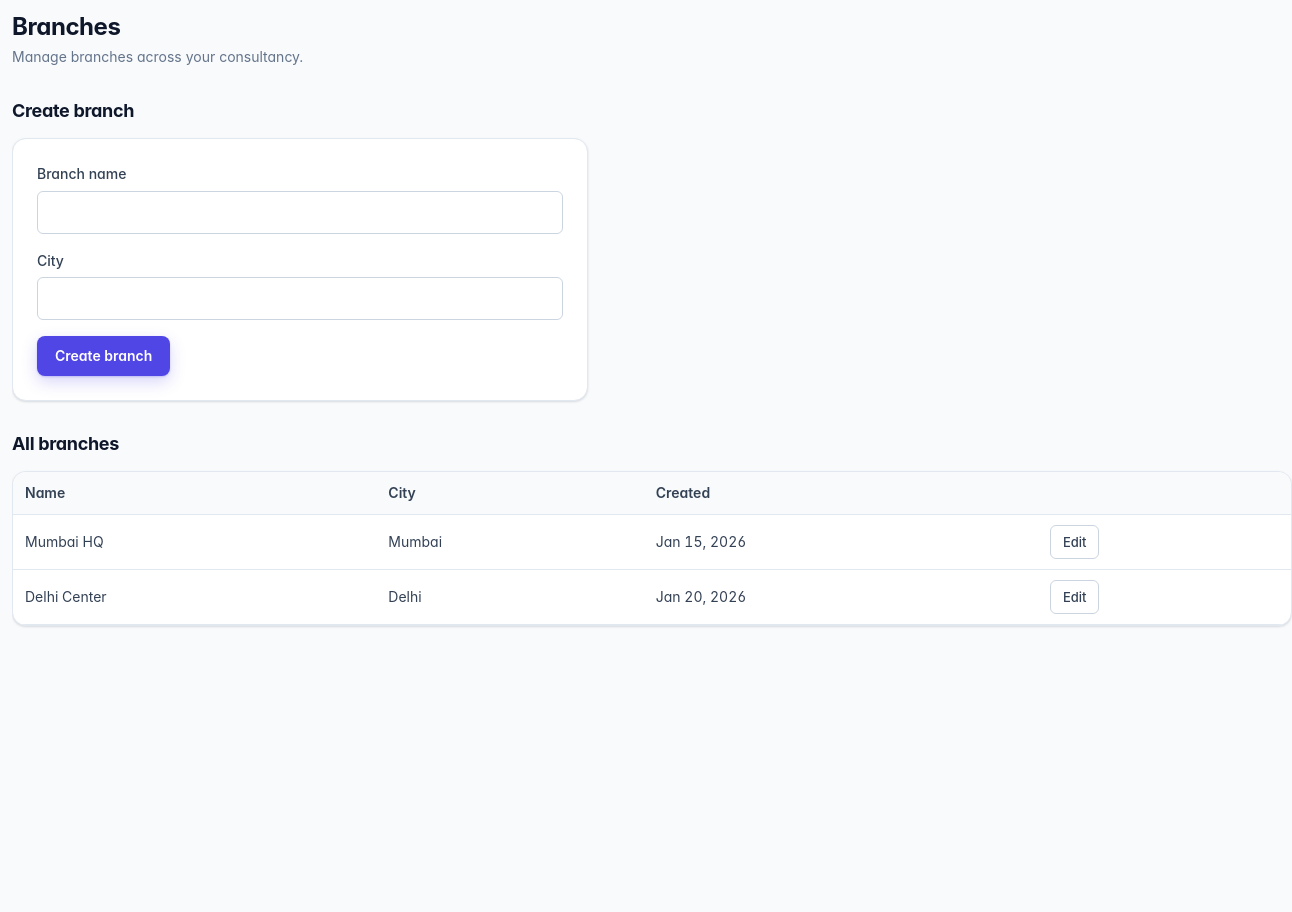
BranchesPage › creates a branch and shows success message
The width and height of the screenshot is (1292, 912).
Type "Bangalore Office" into the field with test id "branch-name" at (300, 212), box [37, 191, 563, 234]
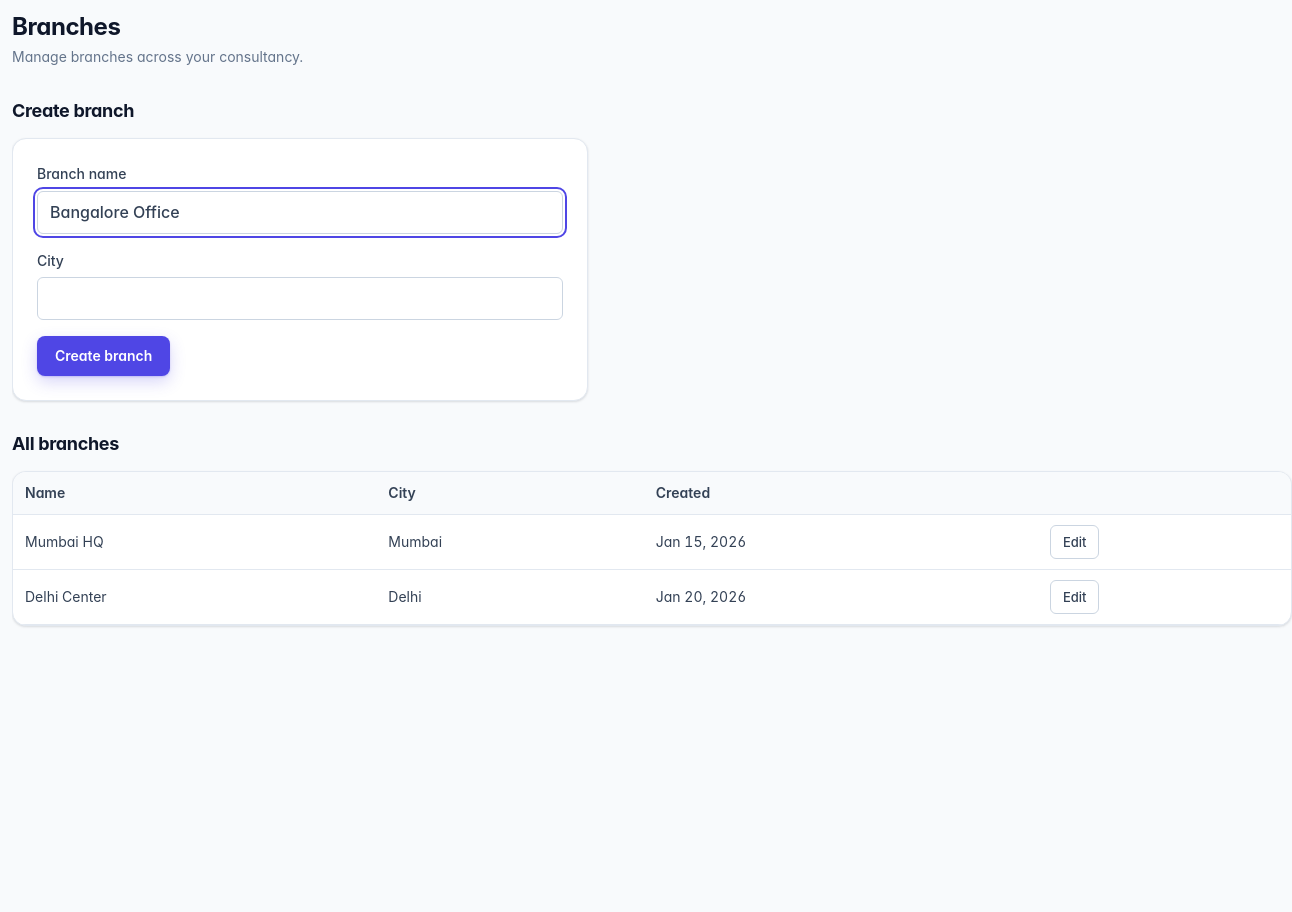
Type "Bangalore" into the field with test id "branch-city" at (300, 299), box [37, 277, 563, 320]
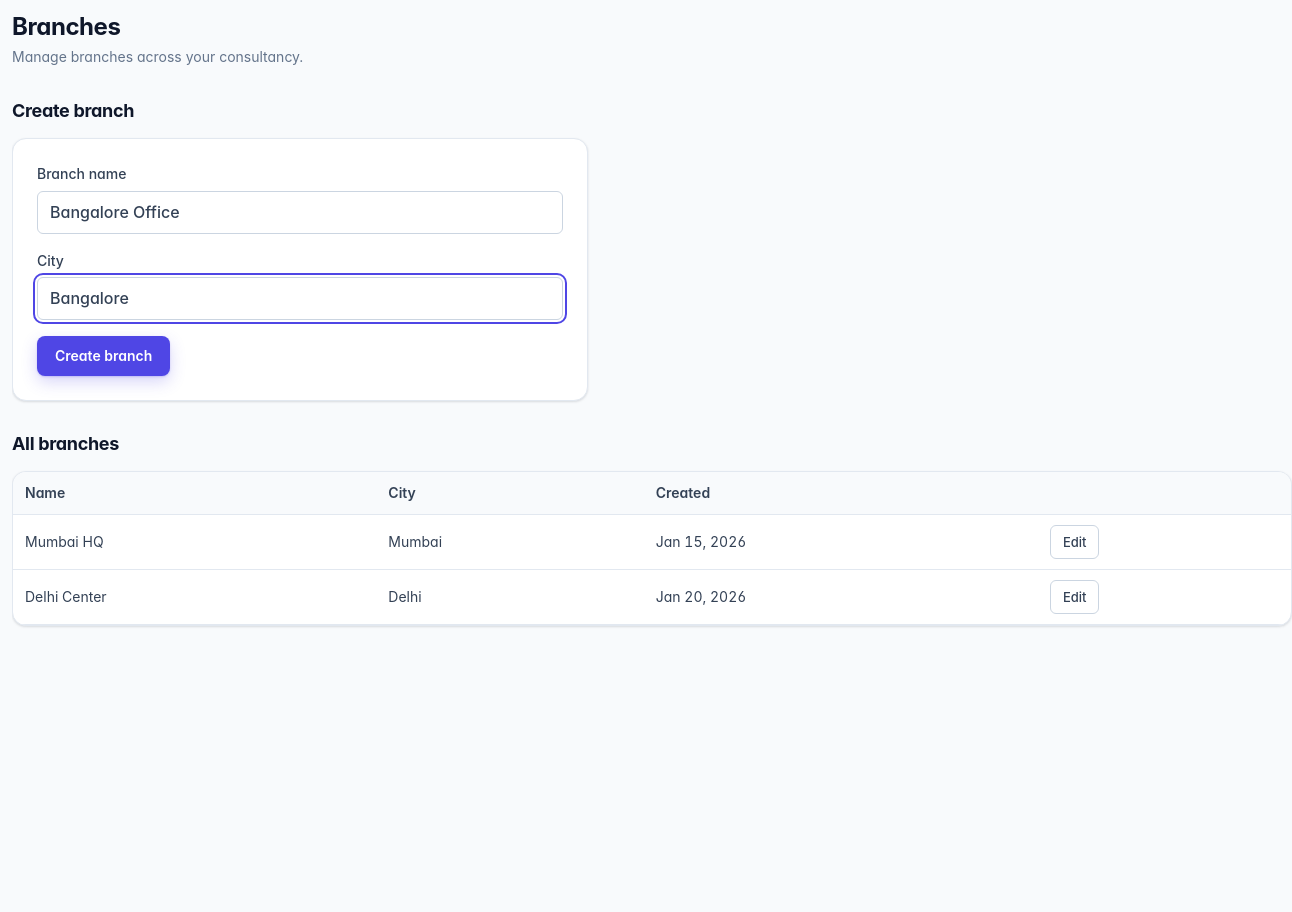
Click the button with test id "branch-create-submit" at (104, 356), box [37, 336, 170, 376]
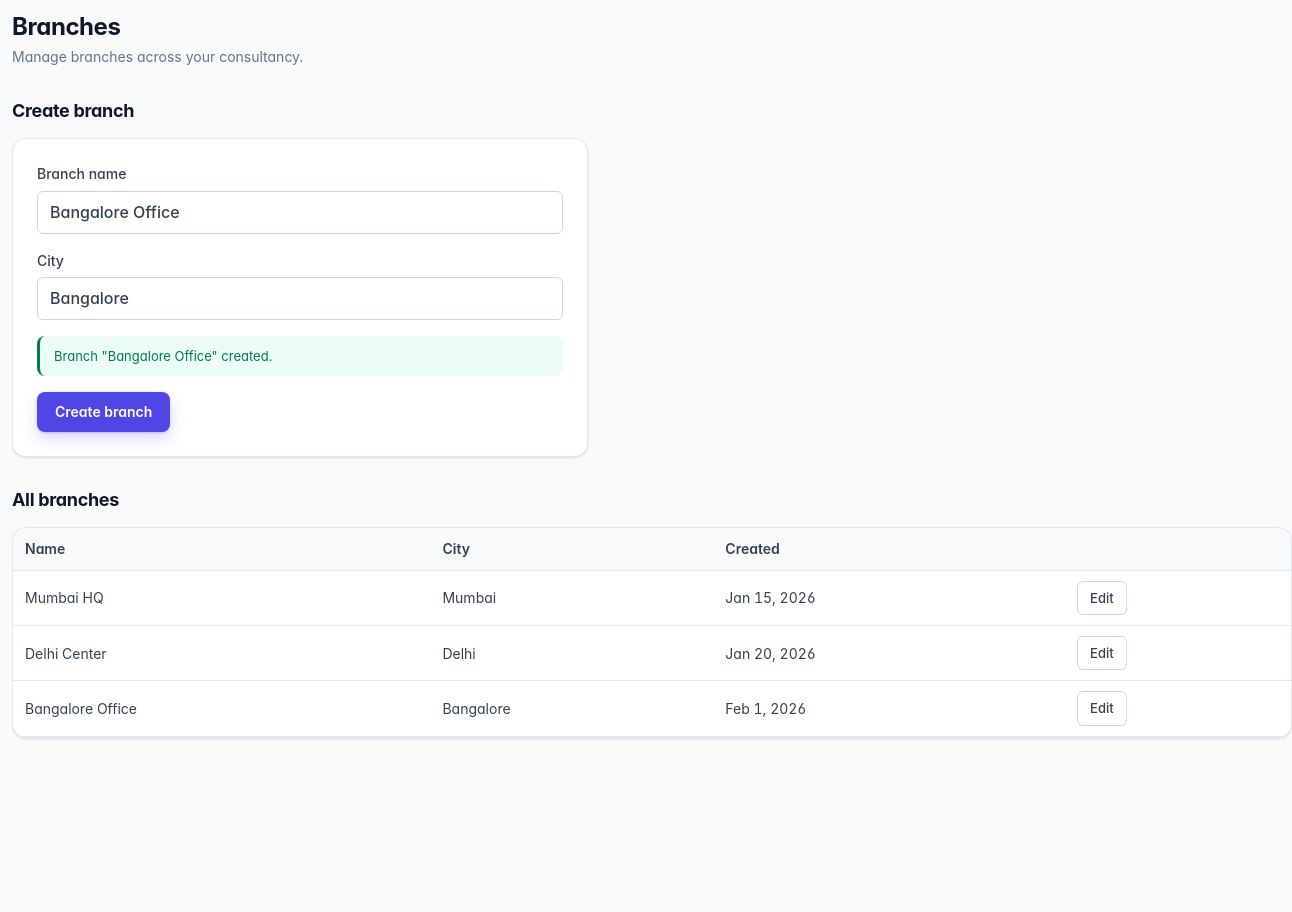
Expected: the message "Branch \"Bangalore Office\" created." is shown, [37, 336, 563, 376]
Expected: the message with test id "branch-create-success" shows "Branch \"Bangalore Office\" created", [54, 348, 272, 364]
Expected: the text "Bangalore Office" is shown, [13, 681, 430, 736]
